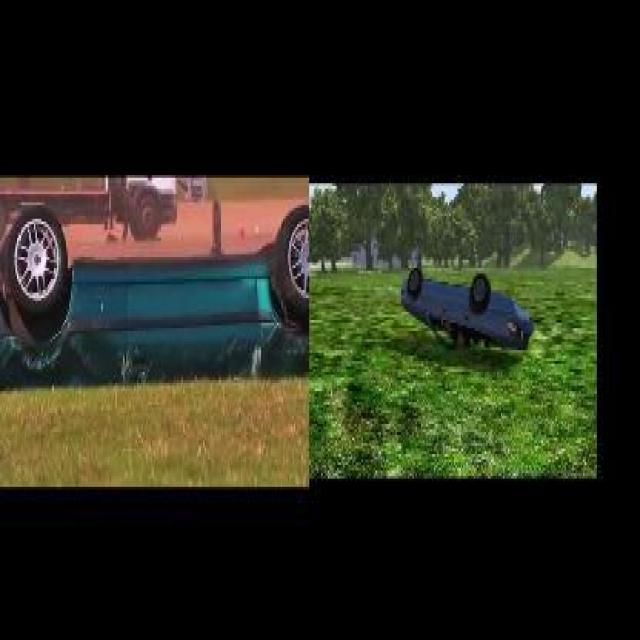accident: (3, 210, 312, 386), (398, 257, 534, 375)
